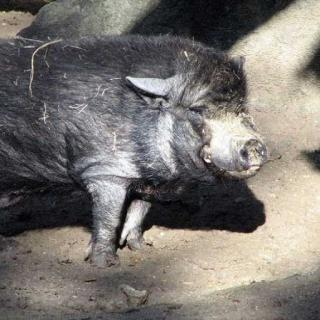Pig: (6, 21, 262, 243)
